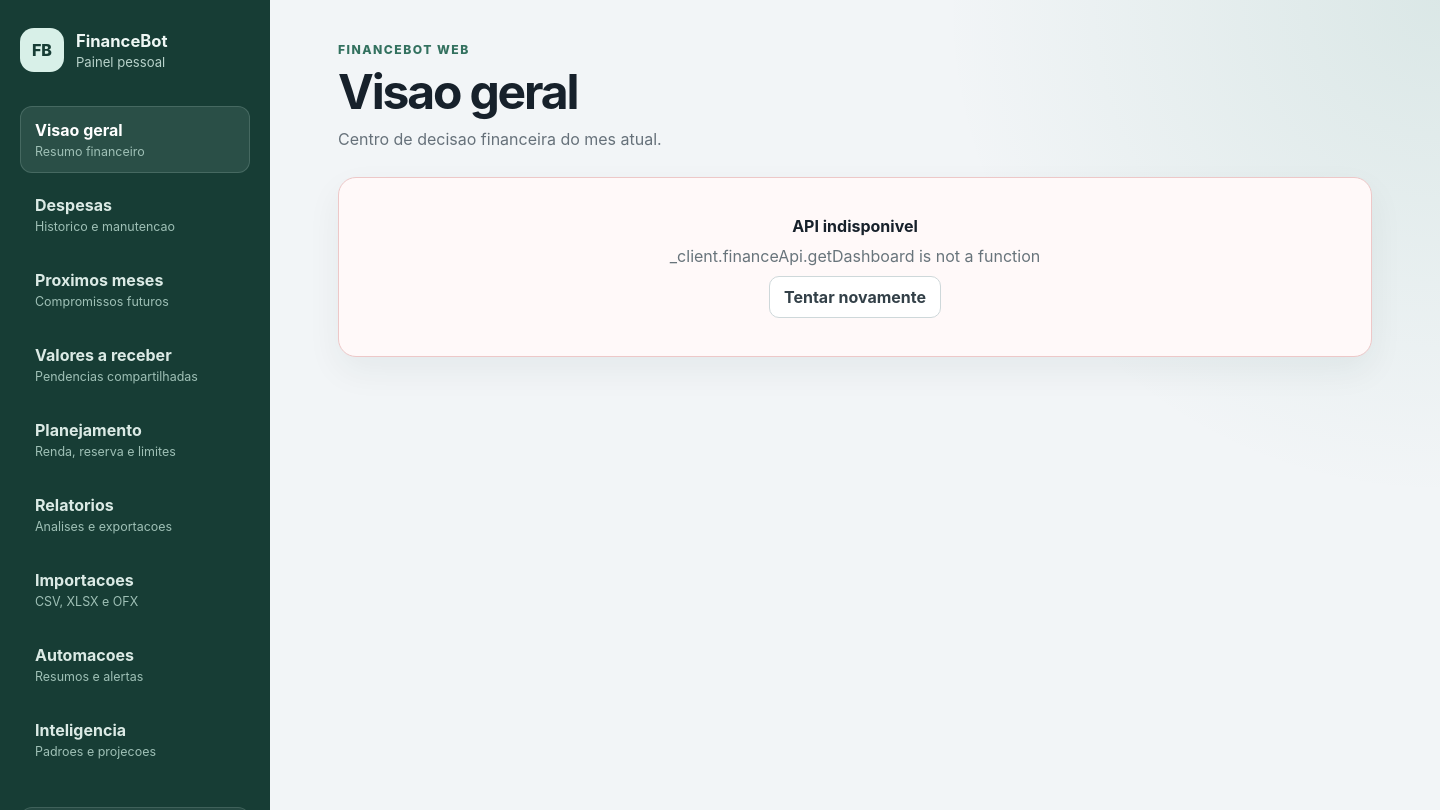
Test case: App › renders the dashboard and navigates to expenses
Expected: the heading "Visao geral" is shown, [338,62,577,121]
Click the button "Despesas Historico e manutencao". click: click(135, 214)
box: [20,181,250,248]
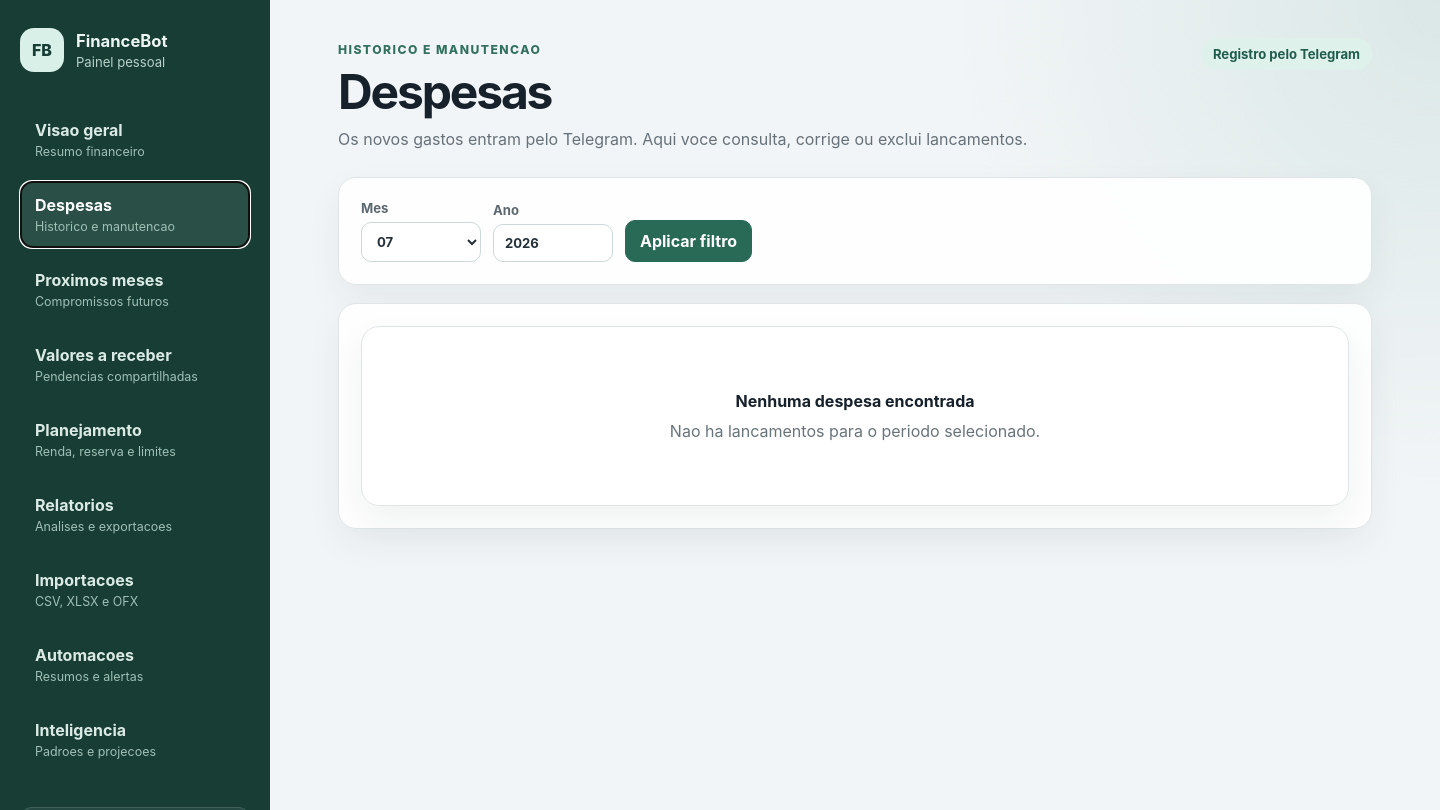
Now the heading "Despesas" is shown, box [338,62,551,121]
